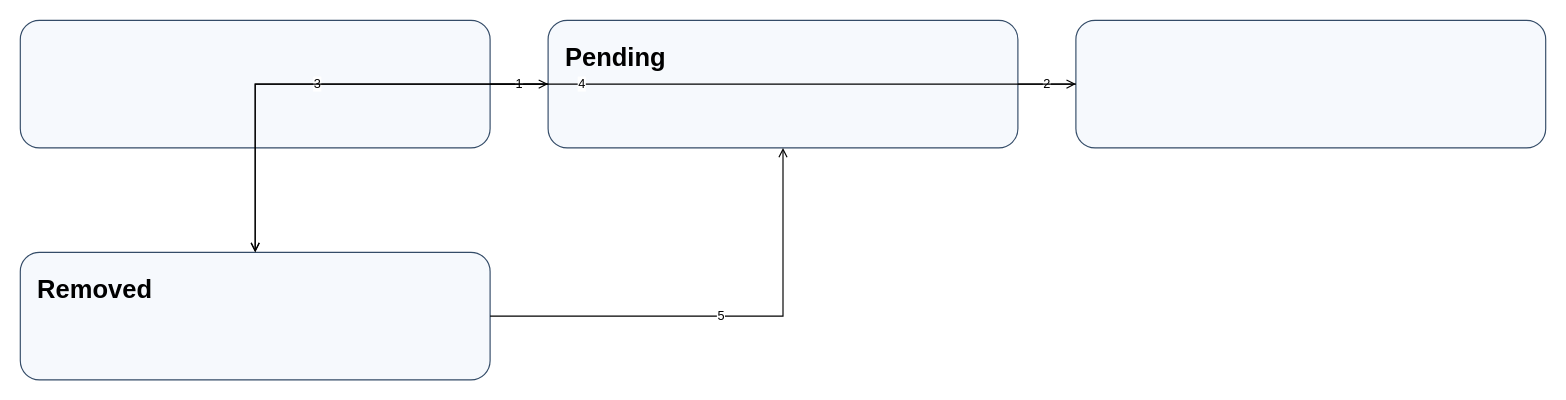
Some shapes in this 1566 by 400 pixel diagram are drawn without their labels. Each missing label, with the centre of its shape:
"Accepted" belongs at (x=1310, y=83).
"None" belongs at (x=254, y=83).
